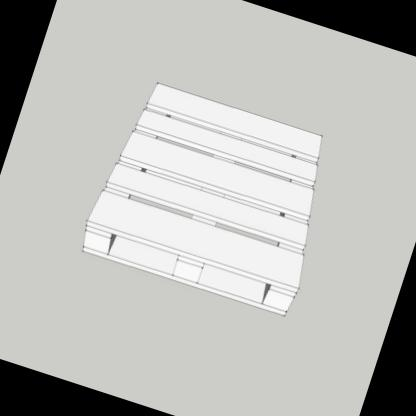BoxFace: (81, 80, 323, 318)
